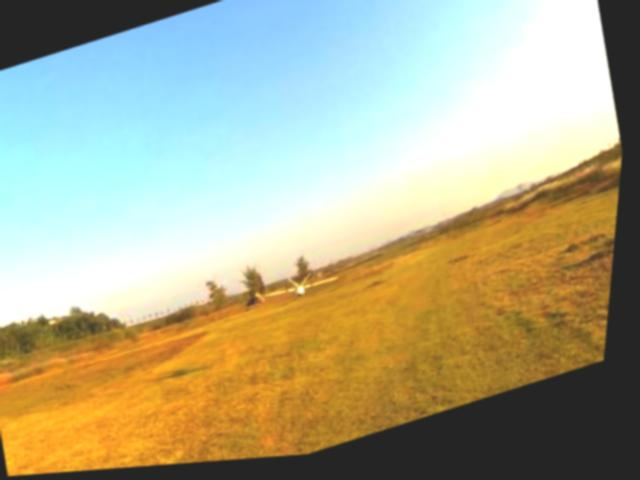uav: (253, 260, 353, 325)
